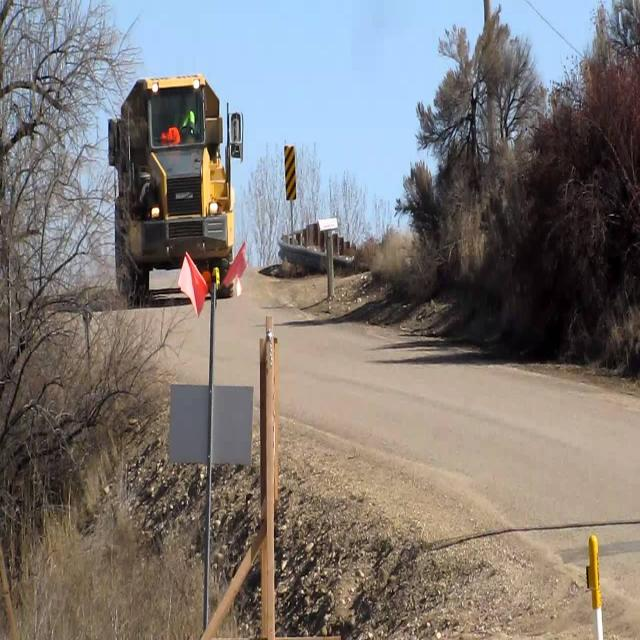dump_truck: (104, 61, 254, 307)
